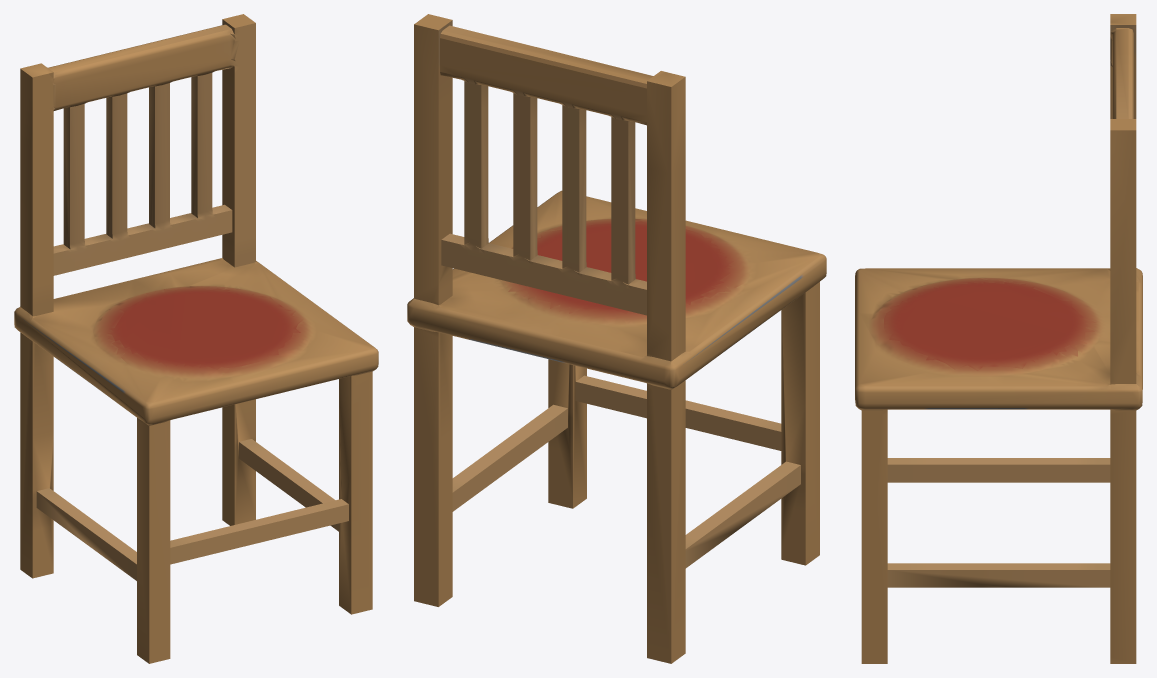
Rendered from chair_edits.mid.glb.
3 views of the same model, side by side, from view 1: azimuth 30°, elevation 25°; view 2: azimuth 150°, elevation 25°; view 3: azimuth 270°, elevation 25° (orthographic). The views are drawn at different scales.
Parts seen in each view (by area): view 1: chair_edits; view 2: chair_edits; view 3: chair_edits.
Boxes of the visible parts, x1,y1,x2,y2 form: chair_edits: [14, 14, 378, 663]; chair_edits: [407, 14, 826, 663]; chair_edits: [855, 14, 1142, 663].
Bounding box in the file's own units: 0.44 × 0.9 × 0.44.
Materials: 1 (1 with a texture image).
